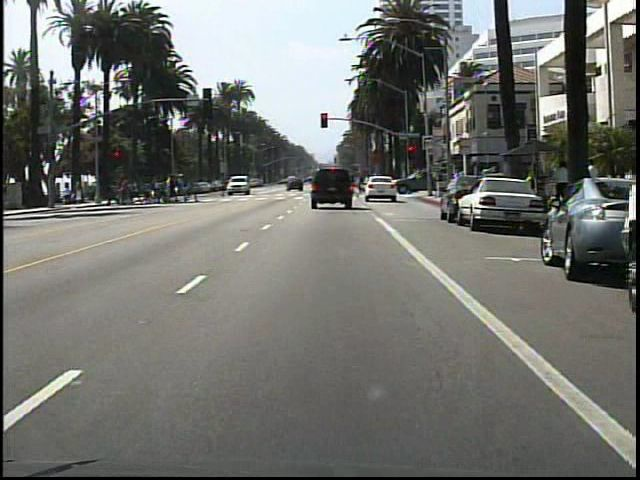person: (551, 156, 575, 215), (580, 155, 601, 212), (213, 172, 232, 201)
